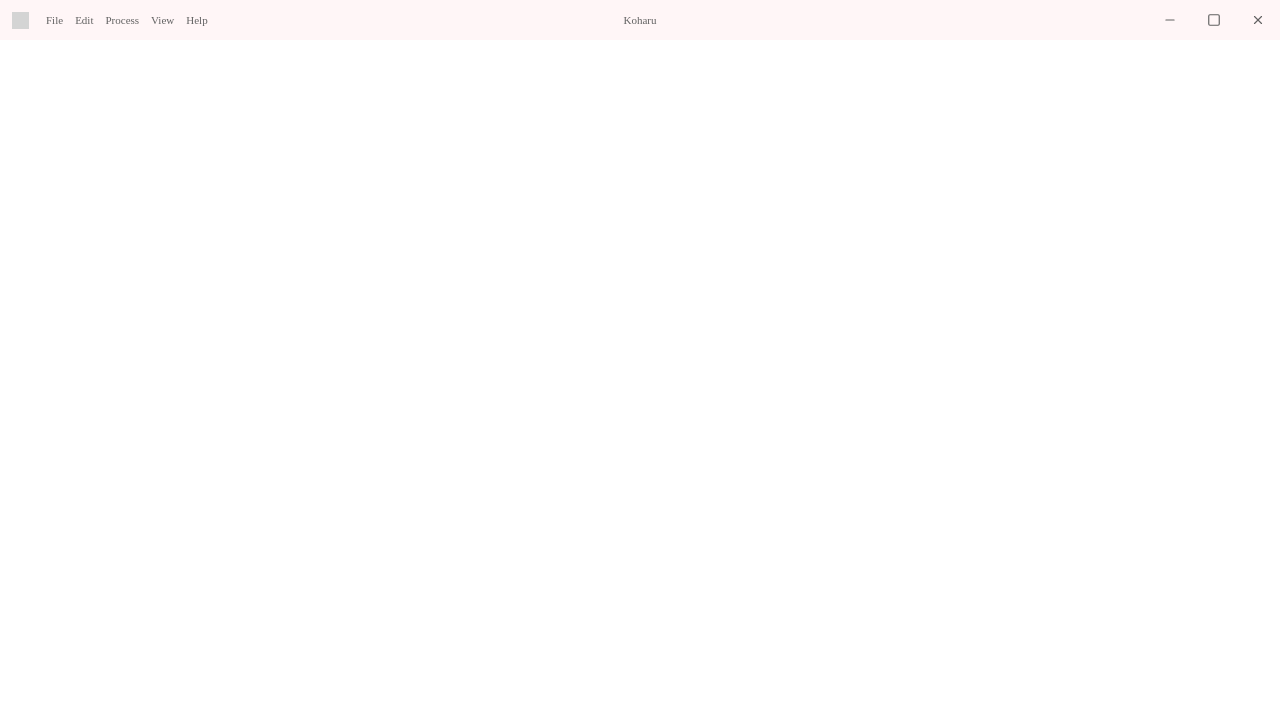
Scenario: greenfield editor › shows the current version and author in About
Click the menu item "Help": (197, 20) 180,8 -> 214,32
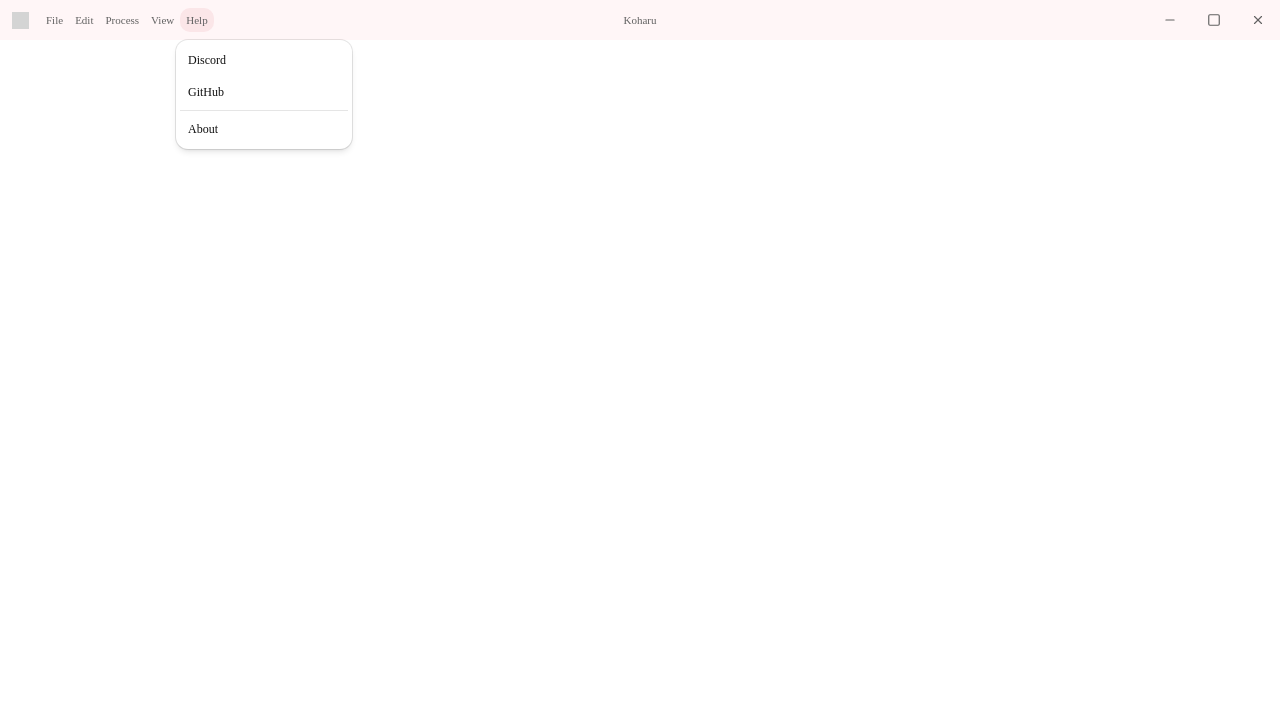
Click the menu item "About": (203, 129) 188,122 -> 218,136
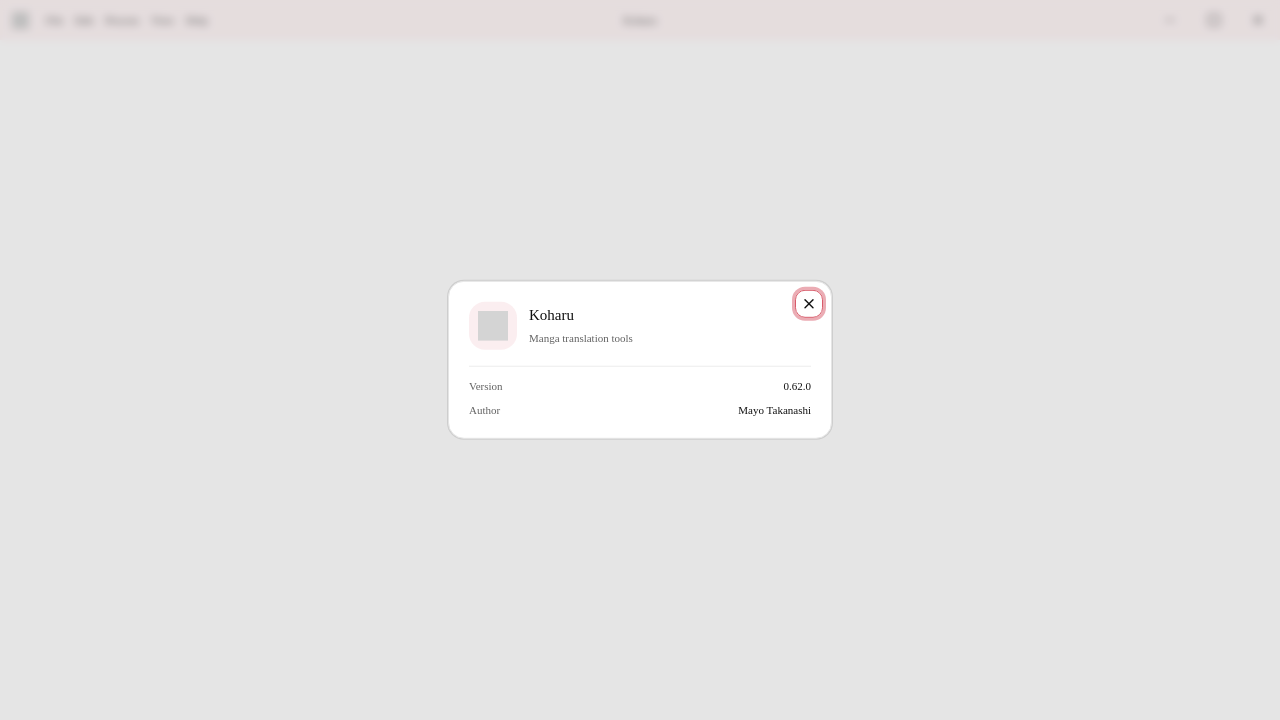
Now the heading "Koharu" is shown, box 529,307 -> 574,323
Now the text "0.62.0" is shown, box 784,380 -> 811,392
Now the text "Mayo Takanashi" is shown, box 738,404 -> 811,416
